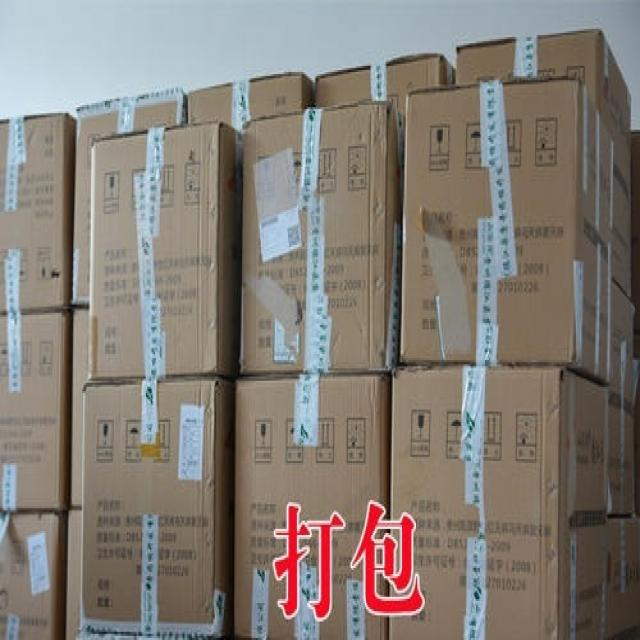box: (400, 80, 616, 387), (387, 364, 608, 638), (237, 103, 402, 373), (80, 371, 238, 635), (232, 374, 391, 636), (88, 121, 244, 381), (70, 90, 188, 303), (454, 32, 631, 158), (1, 114, 77, 312), (0, 308, 73, 512), (313, 55, 455, 121), (0, 513, 67, 638), (187, 73, 315, 134), (69, 305, 90, 510), (605, 517, 639, 637), (609, 284, 639, 417), (607, 398, 638, 517), (612, 142, 632, 293), (626, 130, 639, 356), (65, 509, 82, 638)
